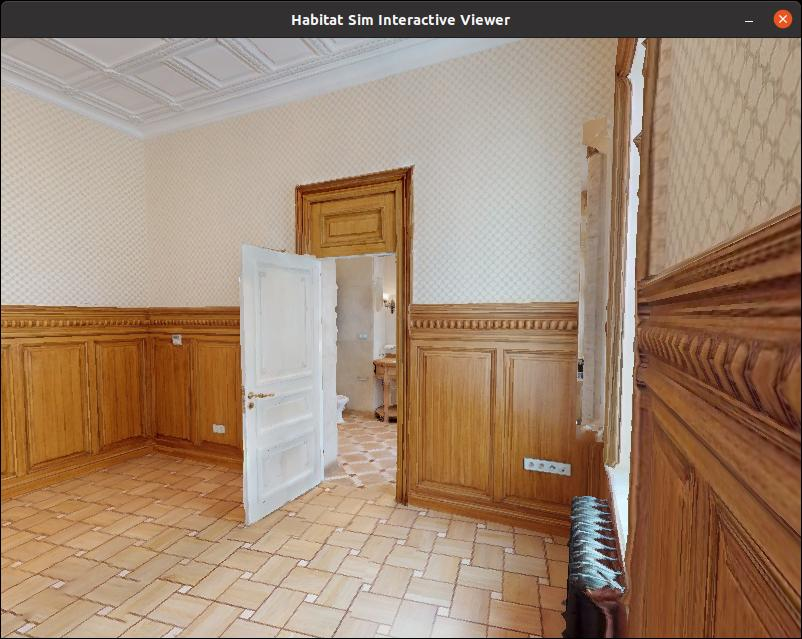door: (233, 241, 338, 530)
door-frame: (314, 229, 415, 506)
